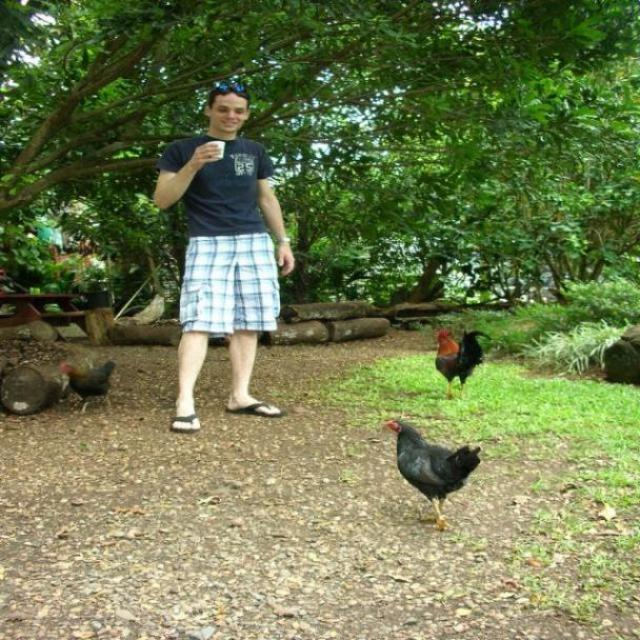Chicken: (374, 415, 481, 533), (429, 328, 496, 401), (55, 358, 119, 416)
